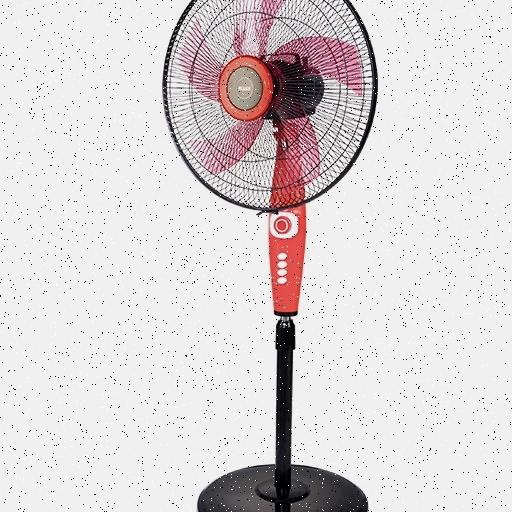Fan: (159, 0, 384, 215)
